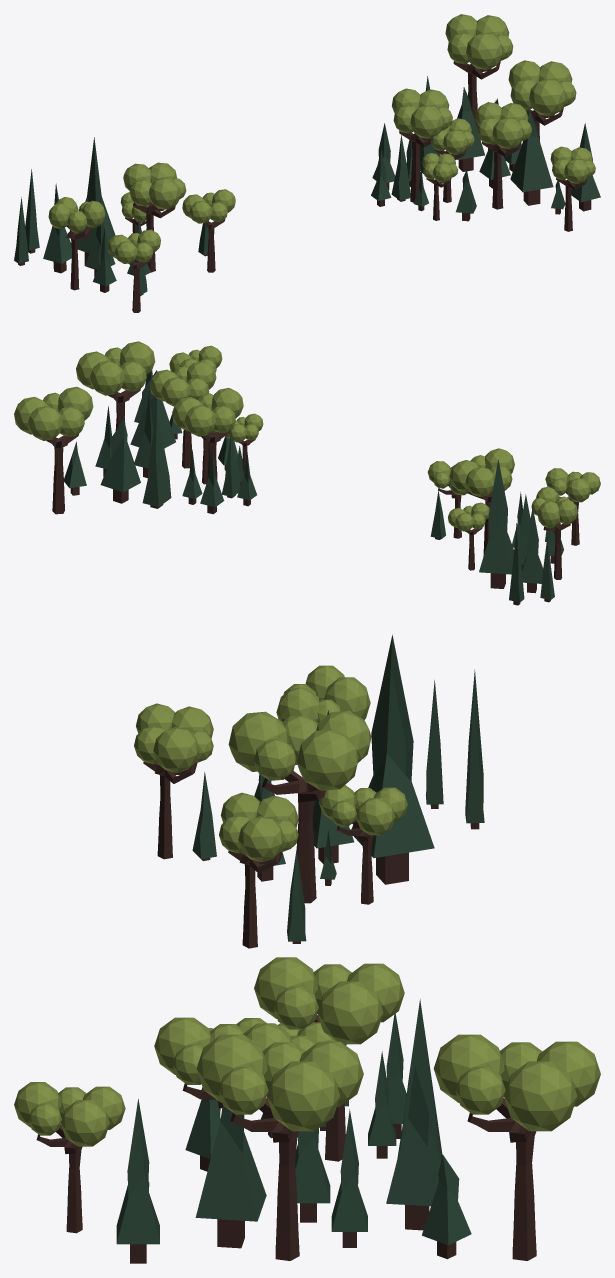
The model's file is Alberi.fbx.
3 views of the same model, one above another, from view 1: azimuth 30°, elevation 25°; view 2: azimuth 150°, elevation 25°; view 3: azimuth 270°, elevation 25° (orthographic). The views are drawn at different scales.
Parts seen in each view (by area): view 1: albero; view 2: albero; view 3: albero.
Boxes of the visible parts, x1=… form: albero: x1=14, y1=14, x2=600, y2=312; albero: x1=14, y1=341, x2=600, y2=605; albero: x1=14, y1=634, x2=600, y2=1263.
Size of the model in its own units: 14562 by 3523 by 7603.
